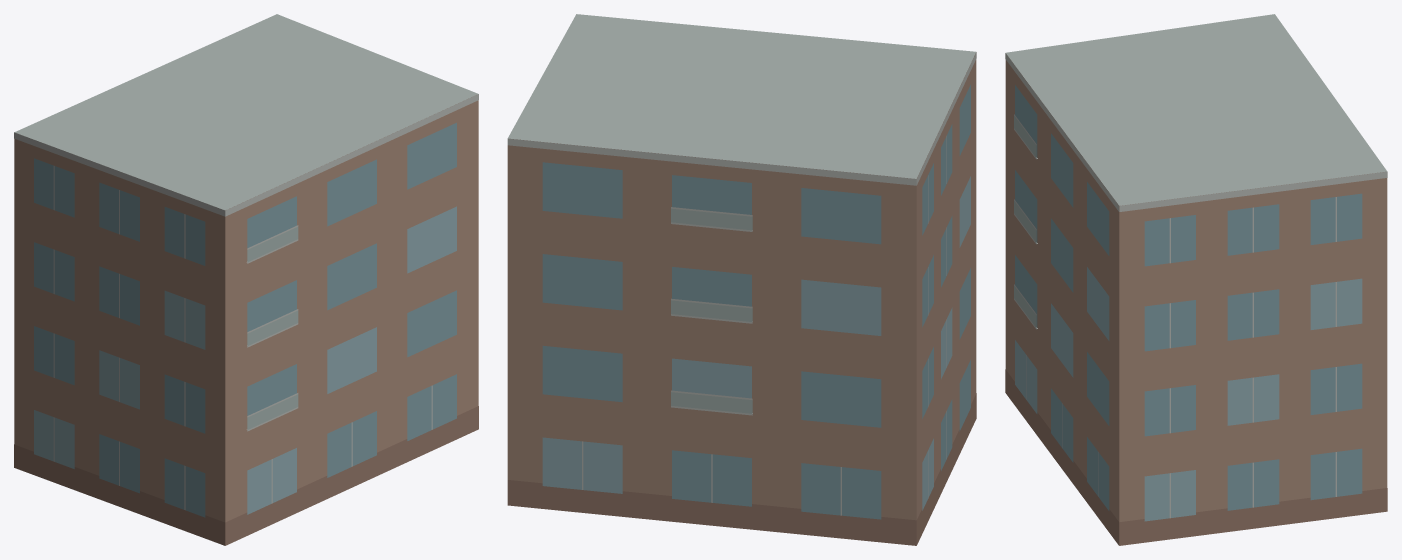
The model's file is survey-upis-32652899.glb.
The picture shows the model from 3 angles, left to right: view 1: azimuth 30°, elevation 25°; view 2: azimuth 150°, elevation 25°; view 3: azimuth 270°, elevation 25°; orthographic projection. The views are drawn at different scales.
Parts seen in each view (by area): view 1: survey-upis-32652899.tmp; view 2: survey-upis-32652899.tmp; view 3: survey-upis-32652899.tmp.
Boxes of the visible parts, bbox=[...] form: survey-upis-32652899.tmp: bbox=[14, 14, 478, 545]; survey-upis-32652899.tmp: bbox=[507, 14, 976, 545]; survey-upis-32652899.tmp: bbox=[1005, 14, 1387, 545].
Bounding box in the file's own units: 15.9 × 13.13 × 13.38.
